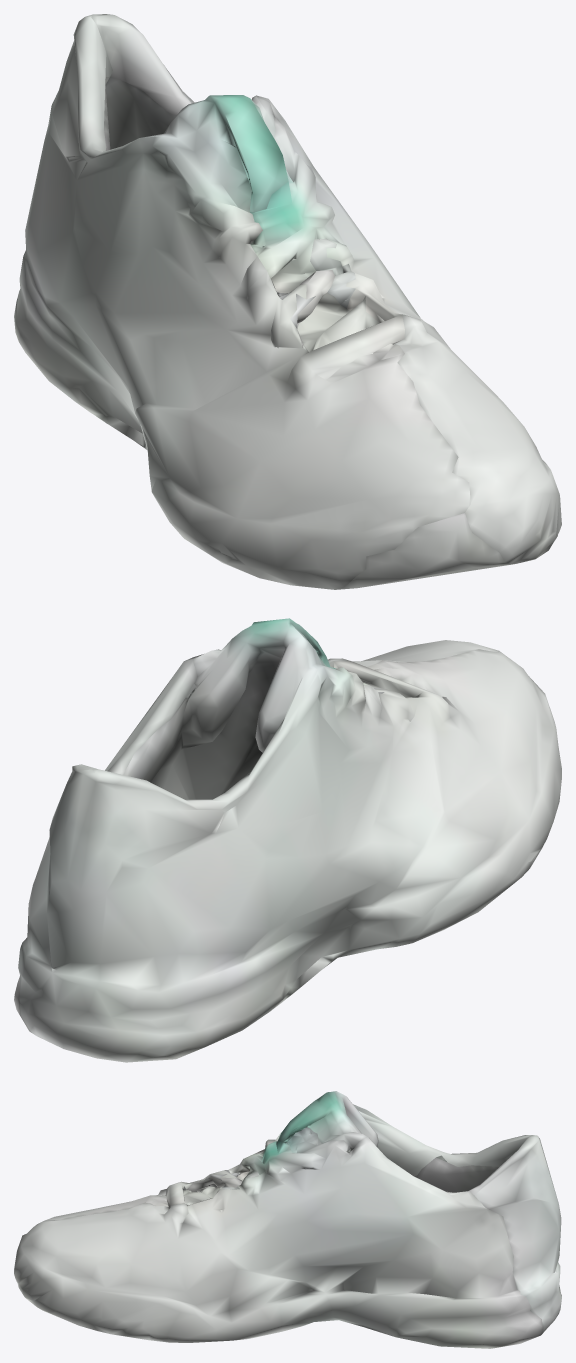
Rendered from Reebok_TRIPLE_BREAK_LITE-medium.glb.
The picture shows the model from 3 angles, top to bottom: view 1: azimuth 30°, elevation 25°; view 2: azimuth 150°, elevation 25°; view 3: azimuth 270°, elevation 25°; orthographic projection. The views are drawn at different scales.
Parts seen in each view (by area): view 1: Reebok_TRIPLE_BREAK_LITE; view 2: Reebok_TRIPLE_BREAK_LITE; view 3: Reebok_TRIPLE_BREAK_LITE.
Boxes of the visible parts, <box> form: Reebok_TRIPLE_BREAK_LITE: <box>14,14,561,589</box>; Reebok_TRIPLE_BREAK_LITE: <box>14,618,561,1062</box>; Reebok_TRIPLE_BREAK_LITE: <box>14,1091,561,1348</box>.
Bounding box in the file's own units: 0.1 × 0.1171 × 0.2655.
Materials: 1 (1 with a texture image).
